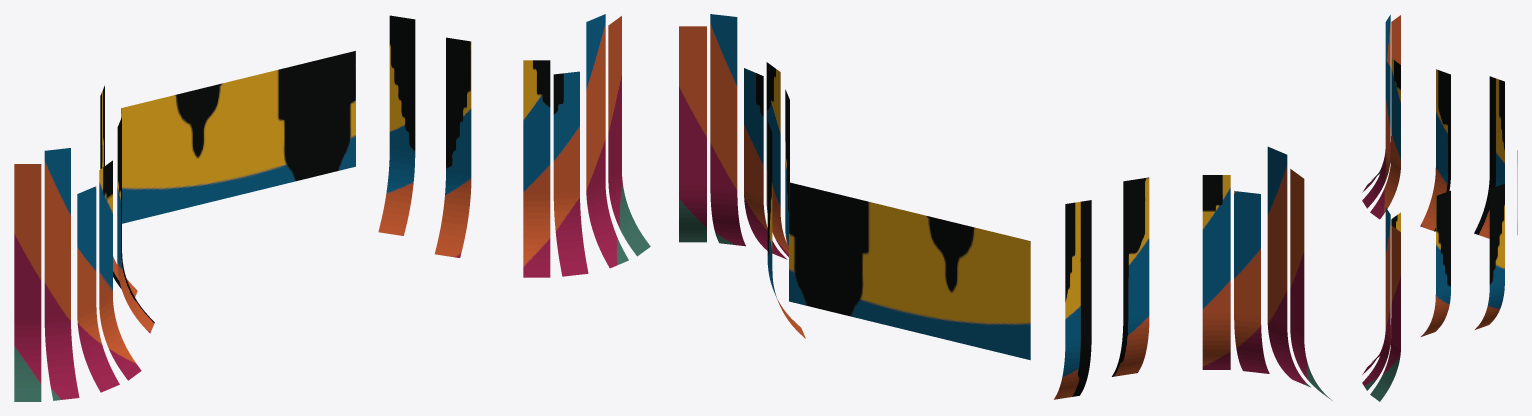
The model's file is banners_screen.glb.
The picture shows the model from 3 angles, left to right: view 1: azimuth 30°, elevation 25°; view 2: azimuth 150°, elevation 25°; view 3: azimuth 270°, elevation 25°; orthographic projection. The views are drawn at different scales.
Parts seen in each view (by area): view 1: LED_Panel_11.001; view 2: LED_Panel_11.001; view 3: LED_Panel_11.001.
Part boxes in pixels (x1=…): LED_Panel_11.001: x1=14, y1=14, x2=650, y2=401; LED_Panel_11.001: x1=679, y1=14, x2=1332, y2=400; LED_Panel_11.001: x1=1362, y1=15, x2=1517, y2=401.
Bounding box in the file's own units: 32.52 × 11.54 × 9.4.
1 material, 1 textured.
